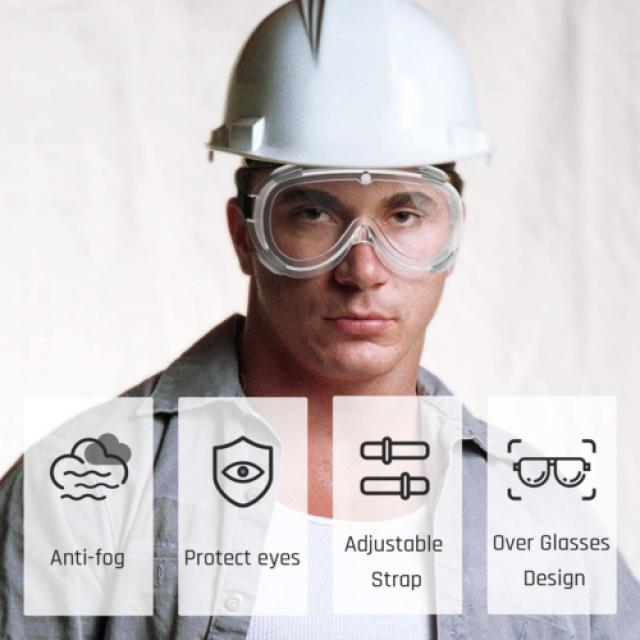Helmet: (173, 1, 571, 172)
Protective Glasses: (216, 153, 502, 290)
